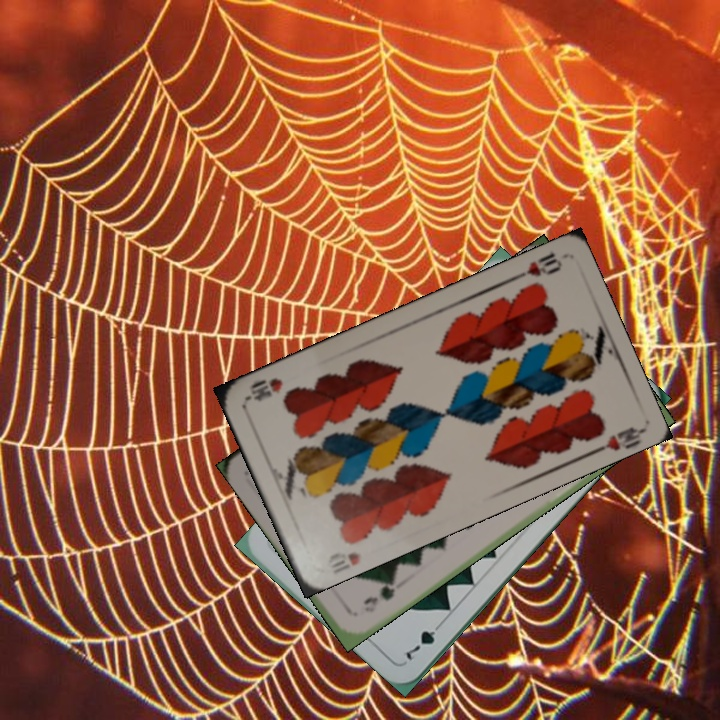G7: (401, 617, 447, 663)
G9: (359, 575, 399, 616)
H10: (509, 248, 565, 283), (322, 548, 363, 571)
